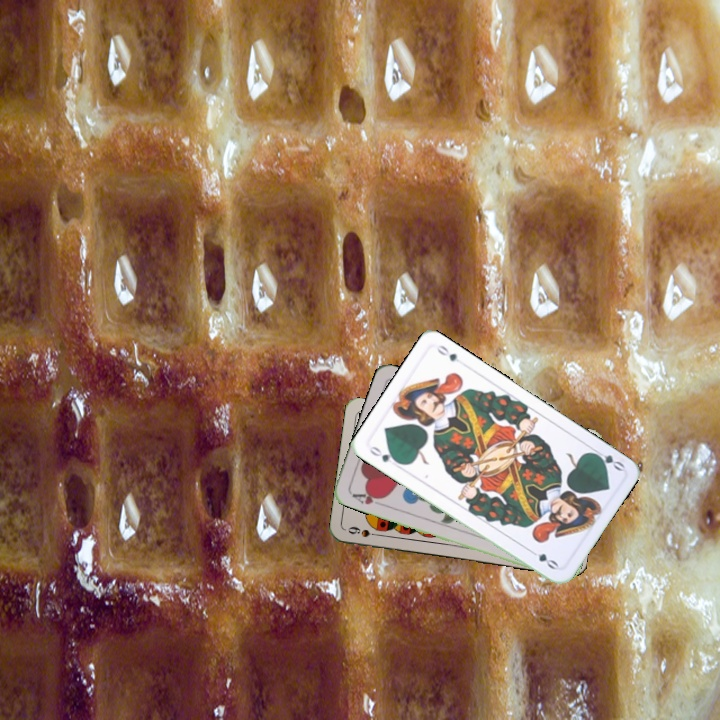GO: (588, 445, 627, 474), (365, 441, 403, 469)
HA: (348, 487, 387, 509)
S9: (344, 522, 384, 540)
